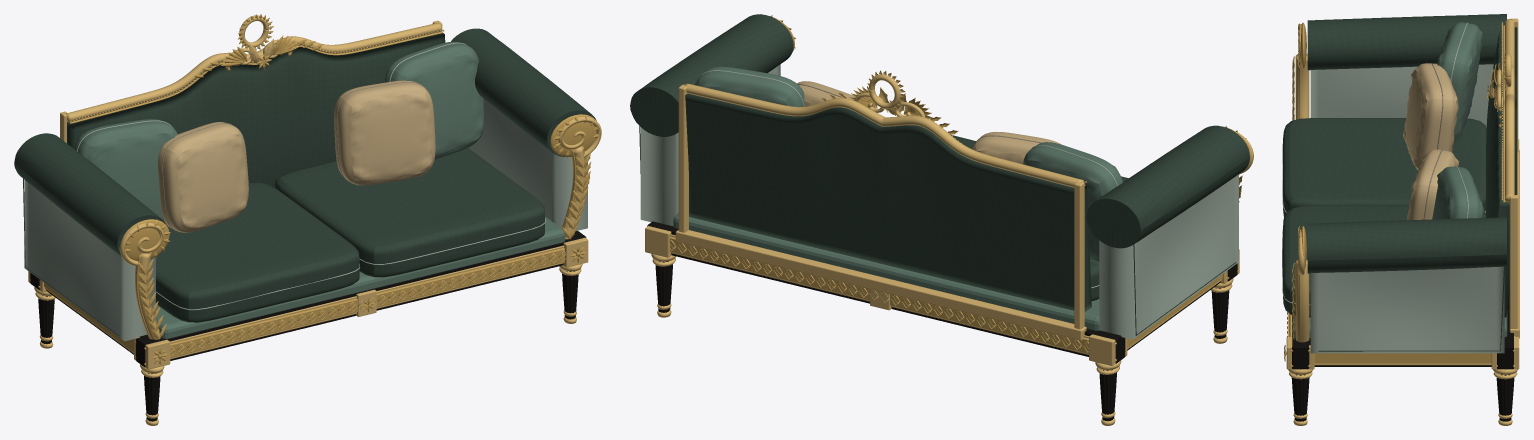
The picture shows the model from 3 angles, left to right: view 1: azimuth 30°, elevation 25°; view 2: azimuth 150°, elevation 25°; view 3: azimuth 270°, elevation 25°; orthographic projection. The views are drawn at different scales.
Visible parts, largest first — view 1: Trianon two-seat sofa | 50473.0 | lounge-7 web batch; view 2: Trianon two-seat sofa | 50473.0 | lounge-7 web batch; view 3: Trianon two-seat sofa | 50473.0 | lounge-7 web batch.
Boxes of the visible parts, x1,y1,x2,y2 form: Trianon two-seat sofa | 50473.0 | lounge-7 web batch: [14, 14, 601, 425]; Trianon two-seat sofa | 50473.0 | lounge-7 web batch: [630, 14, 1253, 425]; Trianon two-seat sofa | 50473.0 | lounge-7 web batch: [1282, 14, 1519, 425].
Bounding box in the file's own units: 2 × 1.11 × 0.8801.
8 materials, 1 textured.
